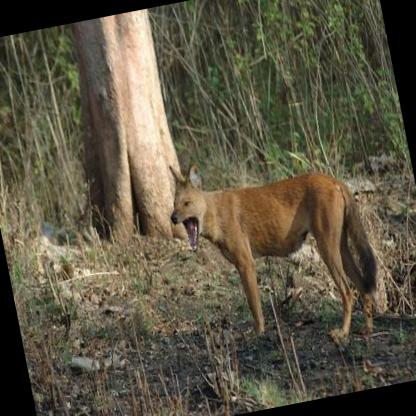dhole: (158, 123, 390, 369)
